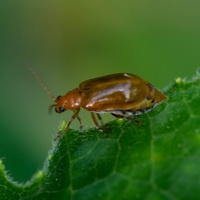insect: (26, 64, 166, 128)
